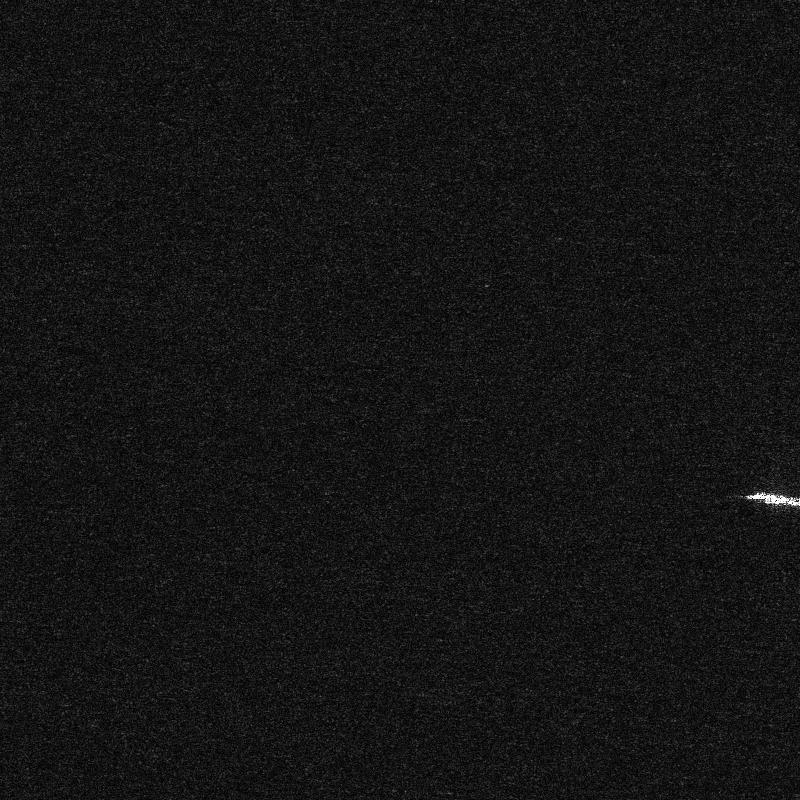ship: (745, 492, 799, 506)
